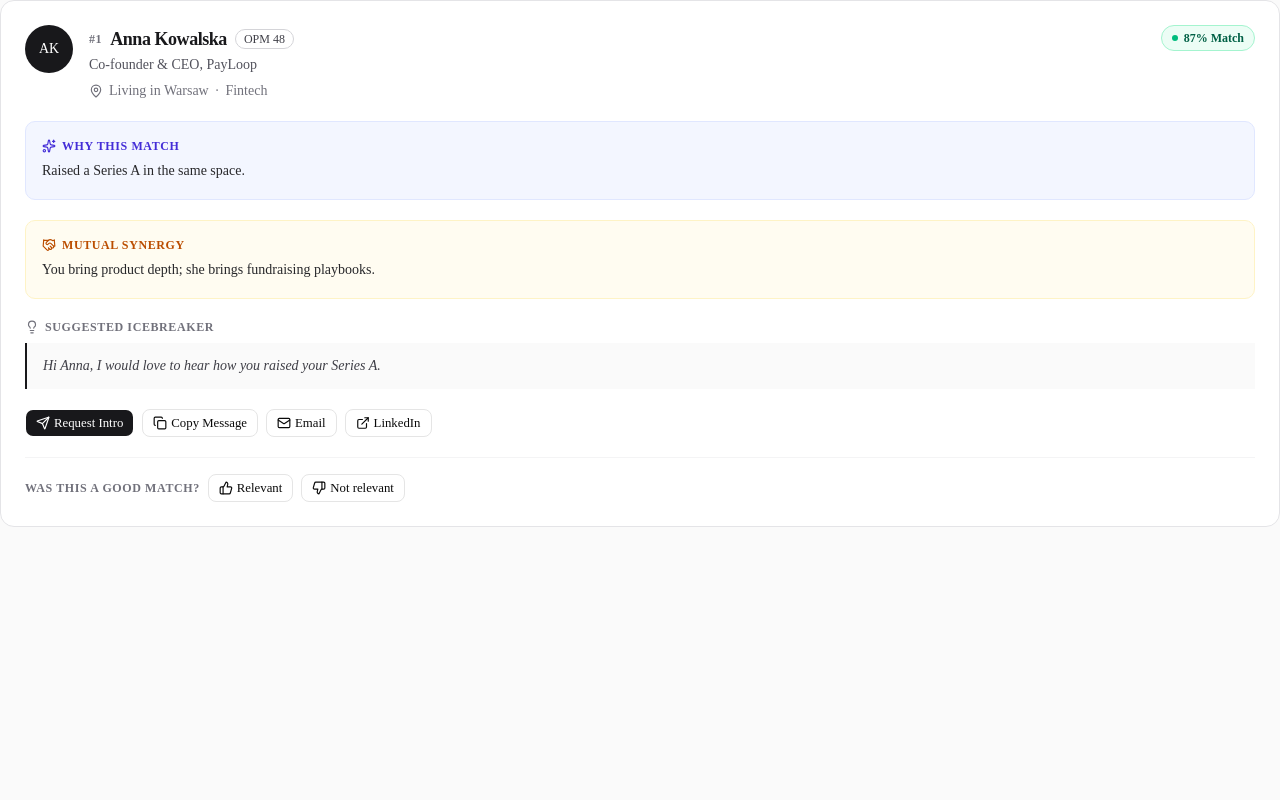
Scenario: MatchCard › Request Intro › opens the dialog, sends the intro with the acting user and marks it requested
The width and height of the screenshot is (1280, 800).
Click the button "Request Intro" at [80, 423], box [25, 409, 134, 437]
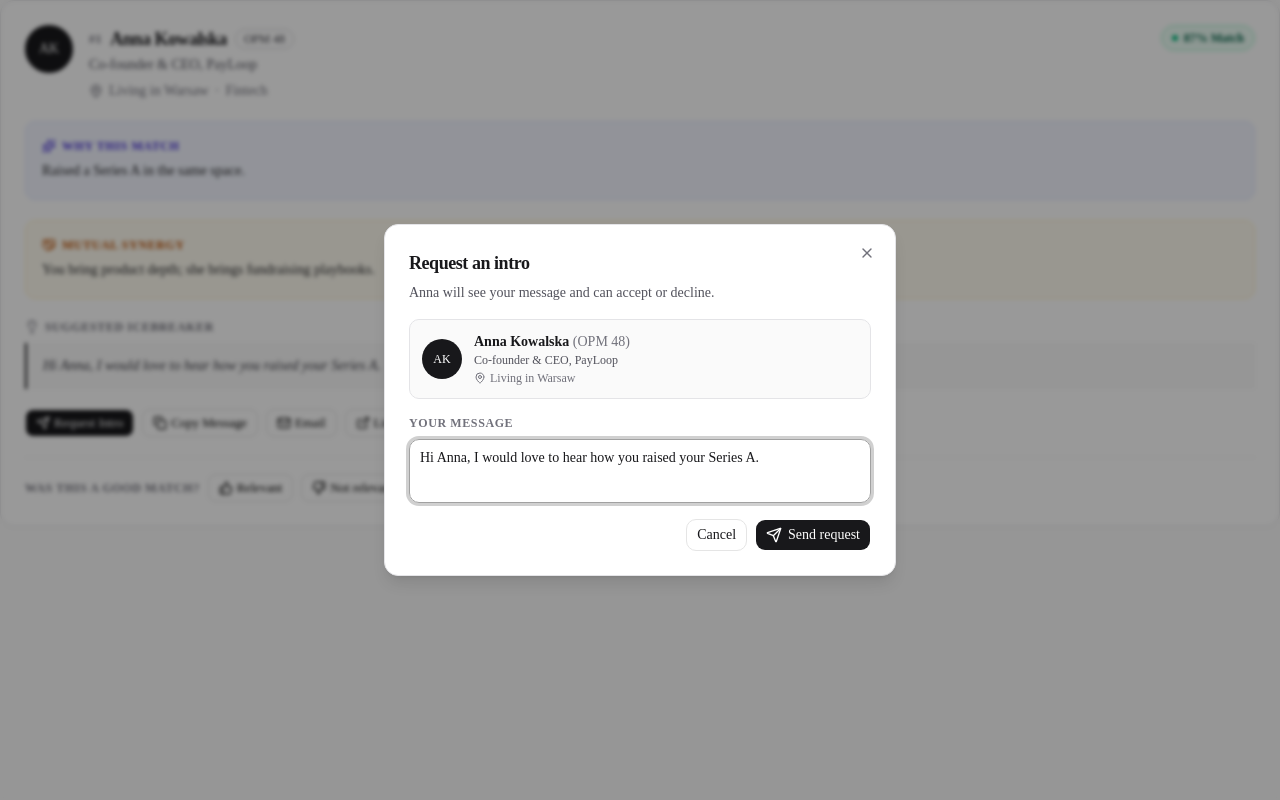
Click the button "Send request" at [813, 535], box [755, 519, 871, 551]
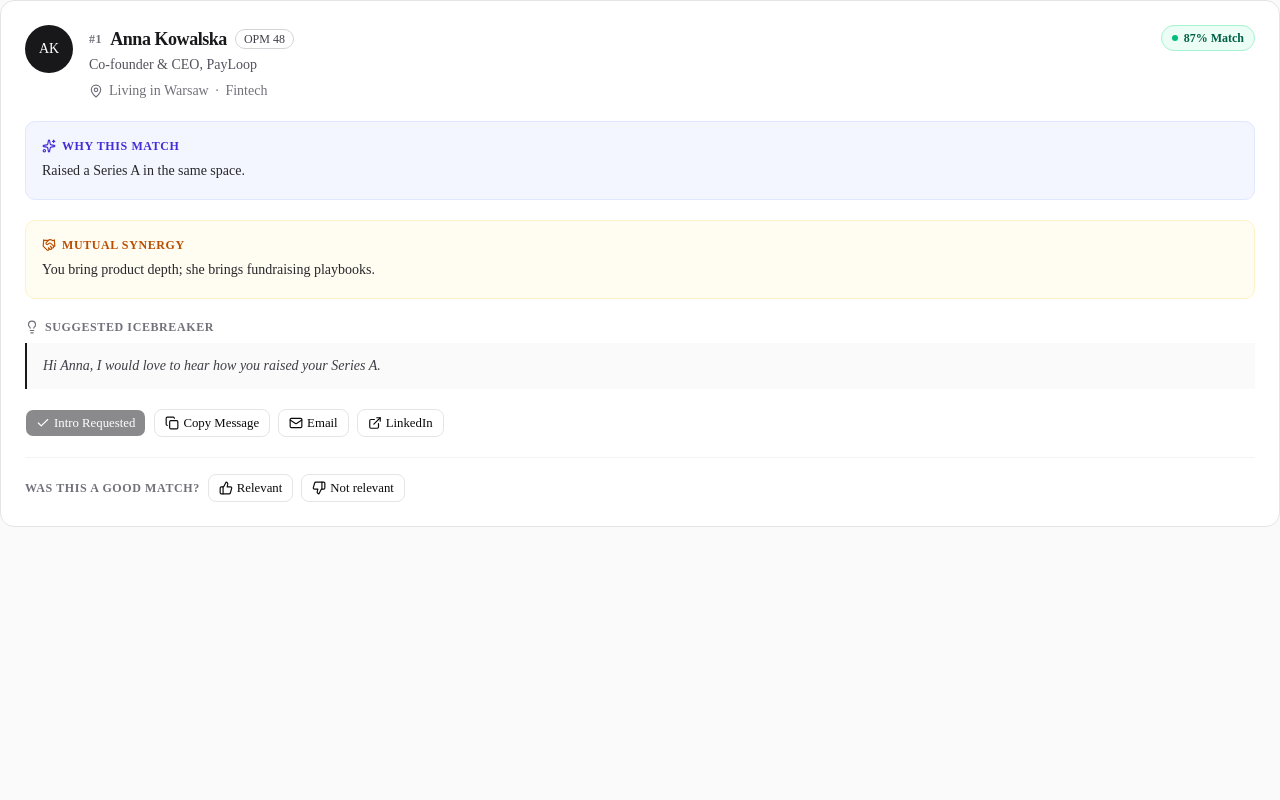
Now the button "Intro Requested" is disabled, box [25, 409, 146, 437]
Now the dialog is gone
